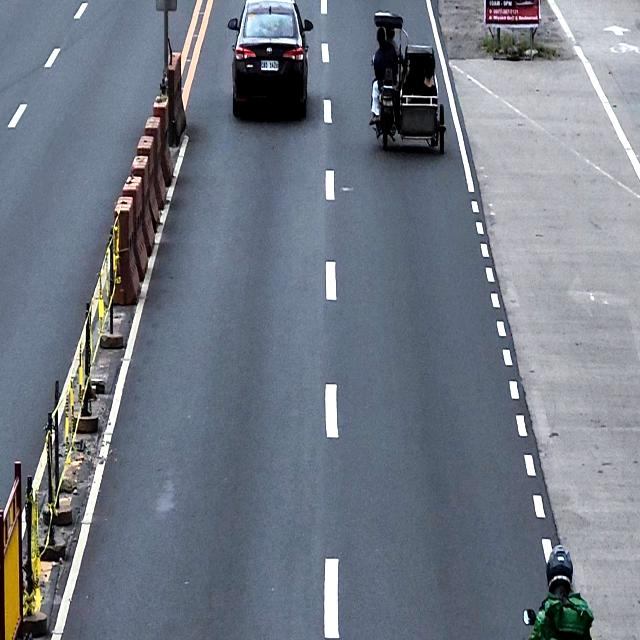Car: (227, 0, 315, 123)
License-Plate: (261, 60, 279, 72), (382, 100, 393, 106)
Tricycle: (372, 8, 447, 159)
